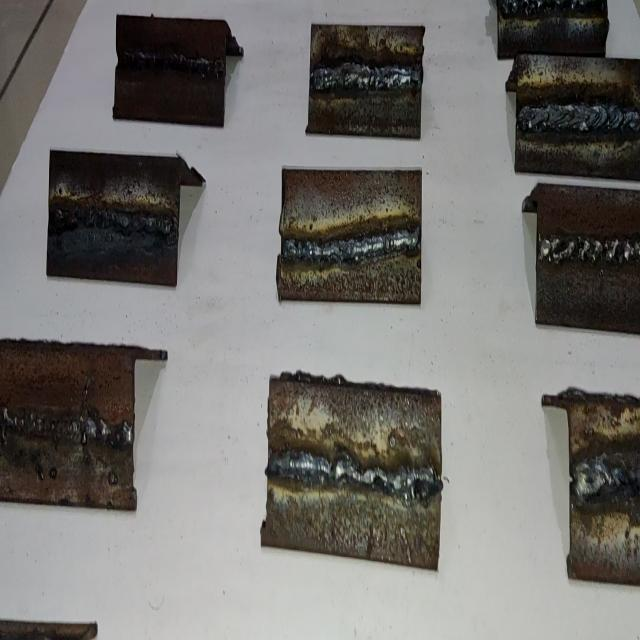Bad Weld: (0, 408, 134, 449), (50, 203, 177, 244), (542, 235, 640, 268), (576, 461, 640, 502)
Defect: (49, 204, 172, 239), (537, 231, 640, 271), (0, 406, 72, 451), (499, 0, 605, 18), (612, 446, 640, 510), (102, 403, 128, 458)
Good Weld: (270, 446, 441, 503), (283, 224, 419, 266), (517, 100, 640, 133), (312, 62, 421, 96), (116, 49, 227, 81)
